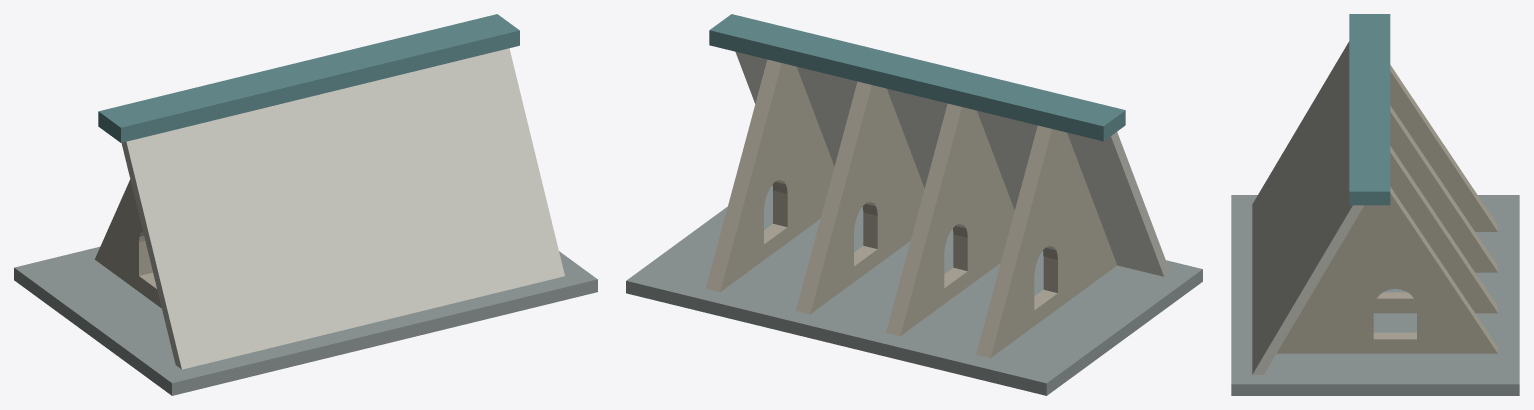
3 renders of one model, left to right at view 1: azimuth 30°, elevation 25°; view 2: azimuth 150°, elevation 25°; view 3: azimuth 270°, elevation 25°, orthographic. The views are drawn at different scales.
Visible parts, largest first — view 1: WholeContinuousInclinedBarrierSlab, WholeGroundedFoundationSlab, WholeContinuousCrestCap, WholeTriangularButtressWithArchedPortal0; view 2: WholeGroundedFoundationSlab, WholeContinuousInclinedBarrierSlab, WholeTriangularButtressWithArchedPortal0, WholeTriangularButtressWithArchedPortal1, WholeTriangularButtressWithArchedPortal2, WholeTriangularButtressWithArchedPortal3, WholeContinuousCrestCap; view 3: WholeGroundedFoundationSlab, WholeContinuousInclinedBarrierSlab, WholeTriangularButtressWithArchedPortal3, WholeContinuousCrestCap, WholeTriangularButtressWithArchedPortal2, WholeTriangularButtressWithArchedPortal1, WholeTriangularButtressWithArchedPortal0.
Part boxes in pixels (x1=…): WholeContinuousInclinedBarrierSlab: x1=121, y1=48, x2=564, y2=369; WholeGroundedFoundationSlab: x1=14, y1=246, x2=597, y2=395; WholeContinuousCrestCap: x1=98, y1=14, x2=519, y2=142; WholeTriangularButtressWithArchedPortal0: x1=94, y1=179, x2=161, y2=308; WholeGroundedFoundationSlab: x1=626, y1=184, x2=1202, y2=395; WholeContinuousInclinedBarrierSlab: x1=735, y1=51, x2=1170, y2=276; WholeTriangularButtressWithArchedPortal0: x1=976, y1=125, x2=1117, y2=358; WholeTriangularButtressWithArchedPortal1: x1=886, y1=103, x2=1014, y2=336; WholeTriangularButtressWithArchedPortal2: x1=796, y1=81, x2=924, y2=313; WholeTriangularButtressWithArchedPortal3: x1=705, y1=59, x2=834, y2=292; WholeContinuousCrestCap: x1=709, y1=14, x2=1125, y2=141; WholeGroundedFoundationSlab: x1=1231, y1=195, x2=1519, y2=395; WholeContinuousInclinedBarrierSlab: x1=1252, y1=41, x2=1364, y2=374; WholeTriangularButtressWithArchedPortal3: x1=1276, y1=187, x2=1497, y2=353; WholeContinuousCrestCap: x1=1349, y1=14, x2=1390, y2=205; WholeTriangularButtressWithArchedPortal2: x1=1373, y1=146, x2=1497, y2=313; WholeTriangularButtressWithArchedPortal1: x1=1390, y1=105, x2=1497, y2=272; WholeTriangularButtressWithArchedPortal0: x1=1390, y1=65, x2=1497, y2=231.
Bounding box in the file's own units: 7 × 3.42 × 4.5.
